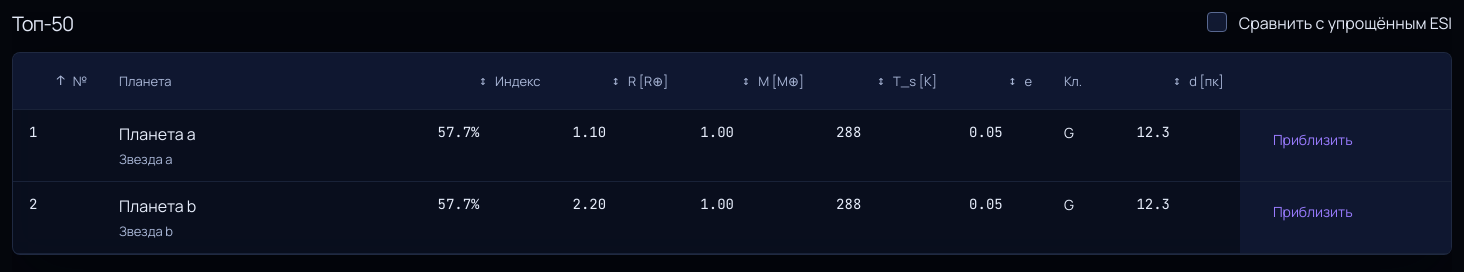
Scenario: сортировка › по R: три клика — asc, desc и возврат к rank asc; aria-sort меняется
Later steps or results of the test are not shown.
Click the button "R [R⊕] ↕" at (640, 81), box [612, 65, 668, 97]
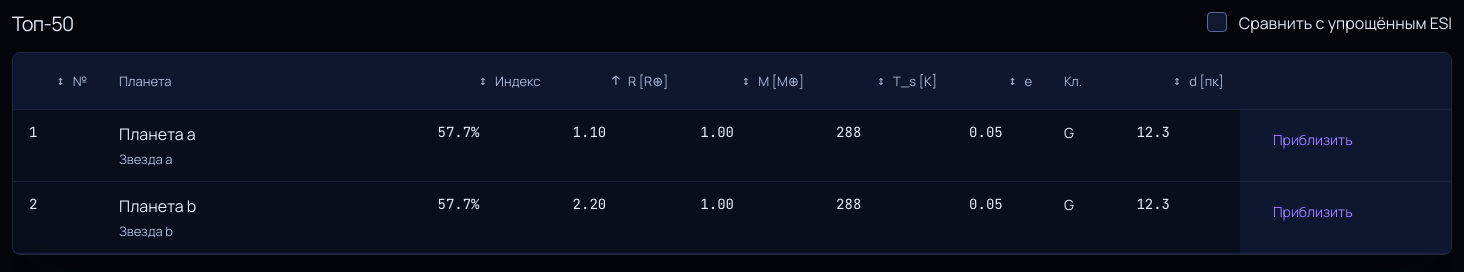
Check: the column heading "R [R⊕] ↑" has attribute aria-sort="ascending", box [557, 53, 684, 110]
Click the button "R [R⊕] ↑" at (640, 81), box [612, 65, 668, 97]
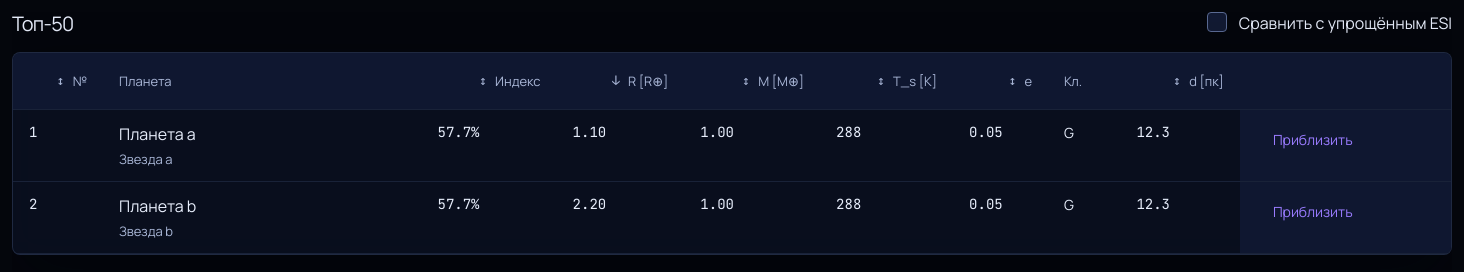
Check: the column heading "R [R⊕] ↓" has attribute aria-sort="descending", box [557, 53, 684, 110]
